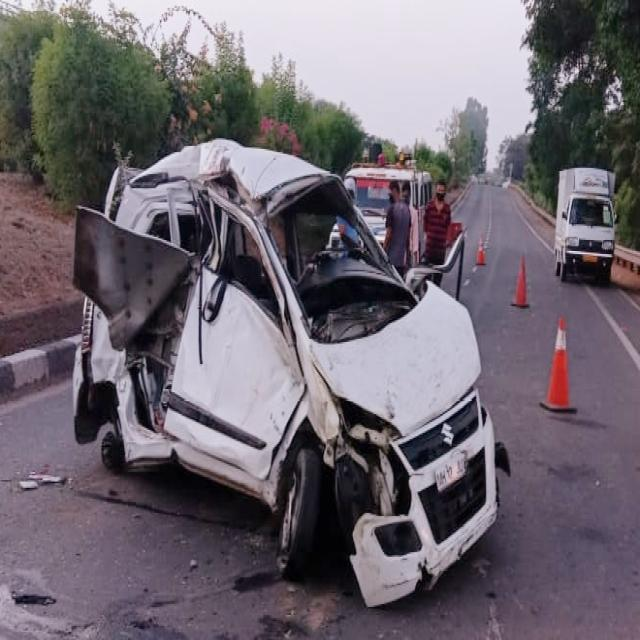accident: (72, 140, 509, 606)
truck: (555, 168, 615, 280)
